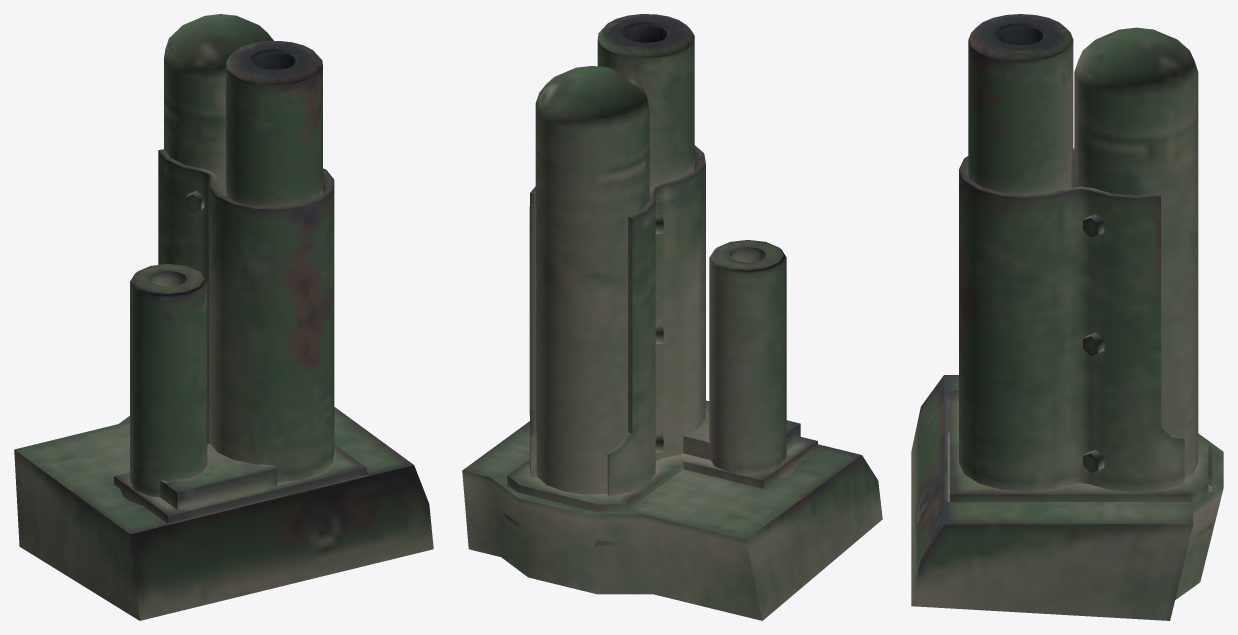
Rendered from Gun_01.glb.
3 renders of one model, left to right at view 1: azimuth 30°, elevation 25°; view 2: azimuth 150°, elevation 25°; view 3: azimuth 270°, elevation 25°, orthographic. The views are drawn at different scales.
Visible parts, largest first — view 1: set_0_group_0; view 2: set_0_group_0; view 3: set_0_group_0.
Boxes of the visible parts, x1,y1,x2,y2 form: set_0_group_0: [14, 14, 433, 620]; set_0_group_0: [462, 14, 882, 620]; set_0_group_0: [911, 14, 1223, 620].
Bounding box in the file's own units: 0.293 × 0.4692 × 0.2506.
1 material, 1 textured.
